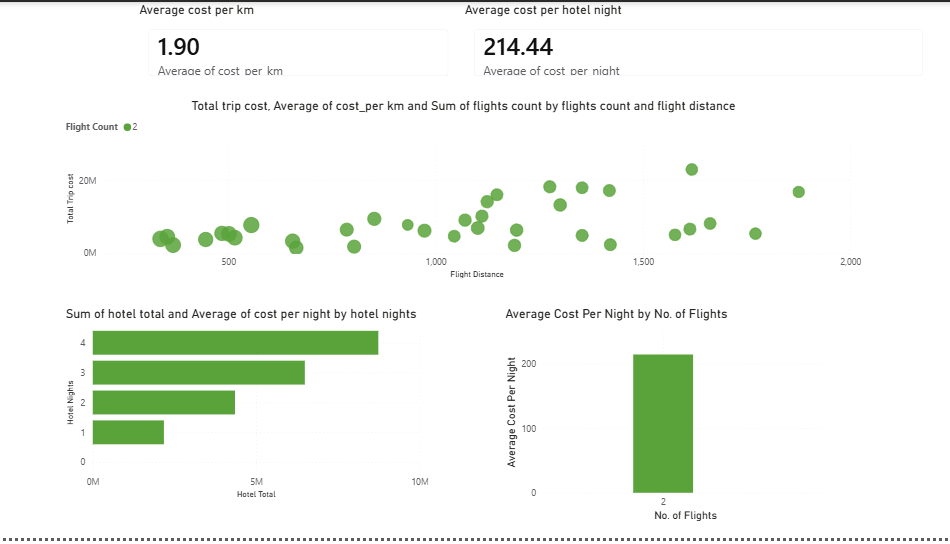

The dashboard page shown, as its layout file describes it:
{"tool":"powerbi","page":{"name":"Page 2","canvas":[1280,720],"ordinal":1},"visuals":[{"type":"scatterChart","title":"Total trip cost, Average of cost_per km and Sum of flights count by flights count and flight distance","fields":{"X":["clean_trips_enhanced.flight_distance"],"Y":["Sum(clean_trips_enhanced.total_trip_cost)"],"Size":["Avg(clean_trips_enhanced.cost_per_km)"],"Series":["clean_trips_enhanced.flights_count"]},"box":[84.3,128.6,1078.6,247.1],"z":0},{"type":"clusteredBarChart","title":"Sum of hotel total and Average of cost per night by hotel nights","fields":{"Y":["Sum(clean_trips_enhanced.hotel_total)"],"Category":["clean_trips_enhanced.hotel_nights"]},"box":[84.3,408.6,497.1,262.9],"z":1000},{"type":"clusteredColumnChart","fields":{"Category":["clean_trips_enhanced.flights_count"],"Y":["Avg(clean_trips_enhanced.cost_per_night)"]},"box":[674.3,408.6,442.9,292.9],"z":2000},{"type":"cardVisual","title":"Average cost per km","fields":{"Data":["Avg(clean_trips_enhanced.cost_per_km)"]},"box":[184.3,0,437.1,117.1],"z":3000},{"type":"cardVisual","title":"Average cost per hotel night","fields":{"Data":["Avg(clean_trips_enhanced.cost_per_night)"]},"box":[621.4,0,637.1,117.1],"z":4000}]}

Visuals, with their boxes in screenshot pixels (x1, y1, x2, y2), scaled from the page's 1280x720 canvas onto the 950x544 screenshot:
"Total trip cost, Average of cost_per km and Sum of flights count by flights count and flight distance" scatterChart: (63,97,863,284)
"Sum of hotel total and Average of cost per night by hotel nights" clusteredBarChart: (63,309,432,507)
clusteredColumnChart - clean_trips_enhanced.flights_count x Avg(clean_trips_enhanced.cost_per_night): (500,309,829,530)
"Average cost per km" cardVisual: (137,0,461,88)
"Average cost per hotel night" cardVisual: (461,0,934,88)
